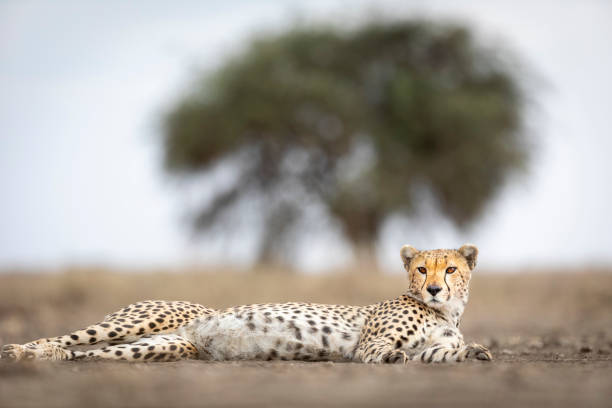cheetah: (390, 241, 486, 323)
